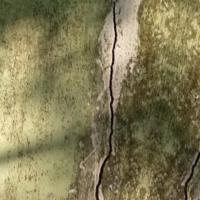crack: (62, 4, 166, 199)
